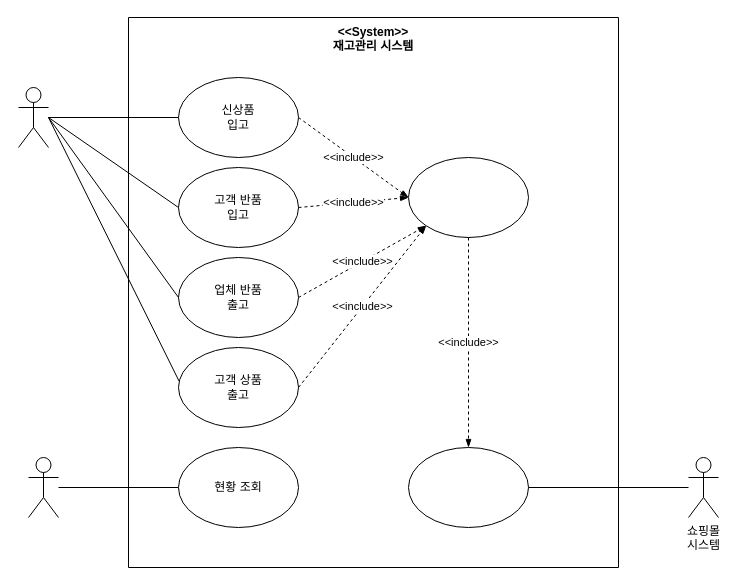
Image size: 737x585. Some labels were removed from this diagram. Each missing label, with the box of its shape:
입출고 담당자: (18, 86, 48, 148)
현황 등록: (408, 156, 528, 238)
현황 반영: (408, 446, 528, 528)
현황관리 담당자: (28, 456, 58, 518)
